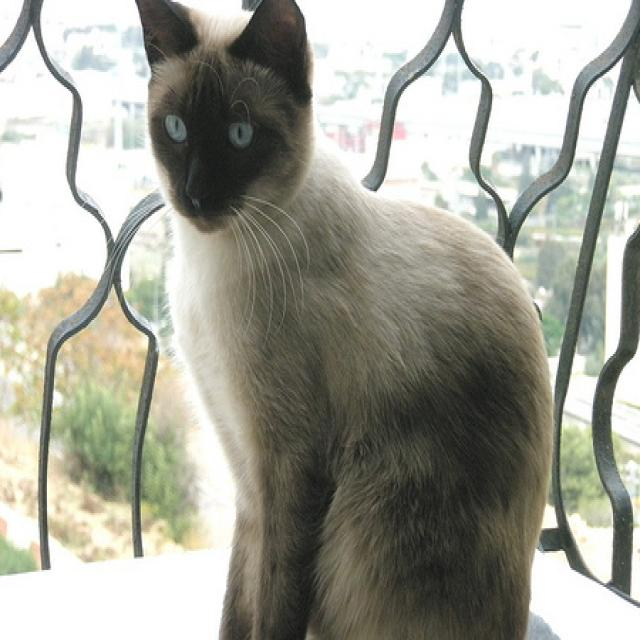Siamese: (125, 0, 559, 640)
